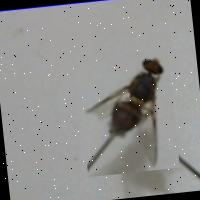Oriental-fruit-fly: (75, 48, 180, 176)
